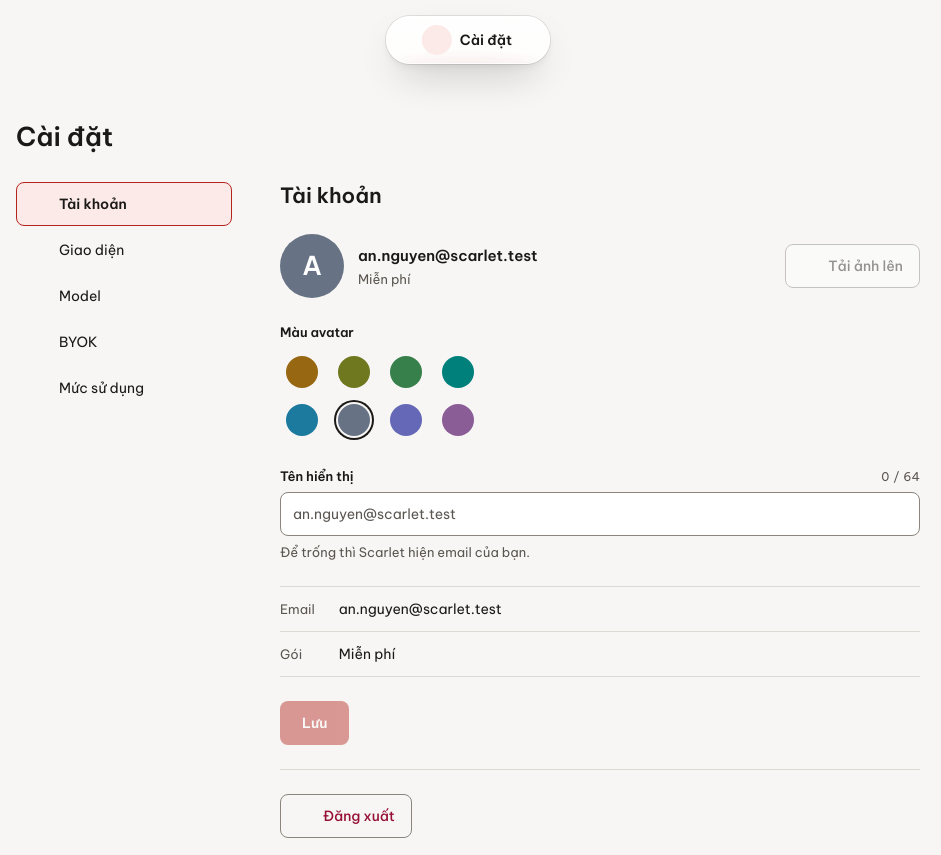
tai khoan › 5. doi ten KHONG xoa default_model — body gui DU bon truong (Cam bay ①)
Type "Nguyễn Thị An" into the field labelled "Tên hiển thị". click: (600, 514)
box: [280, 492, 920, 536]
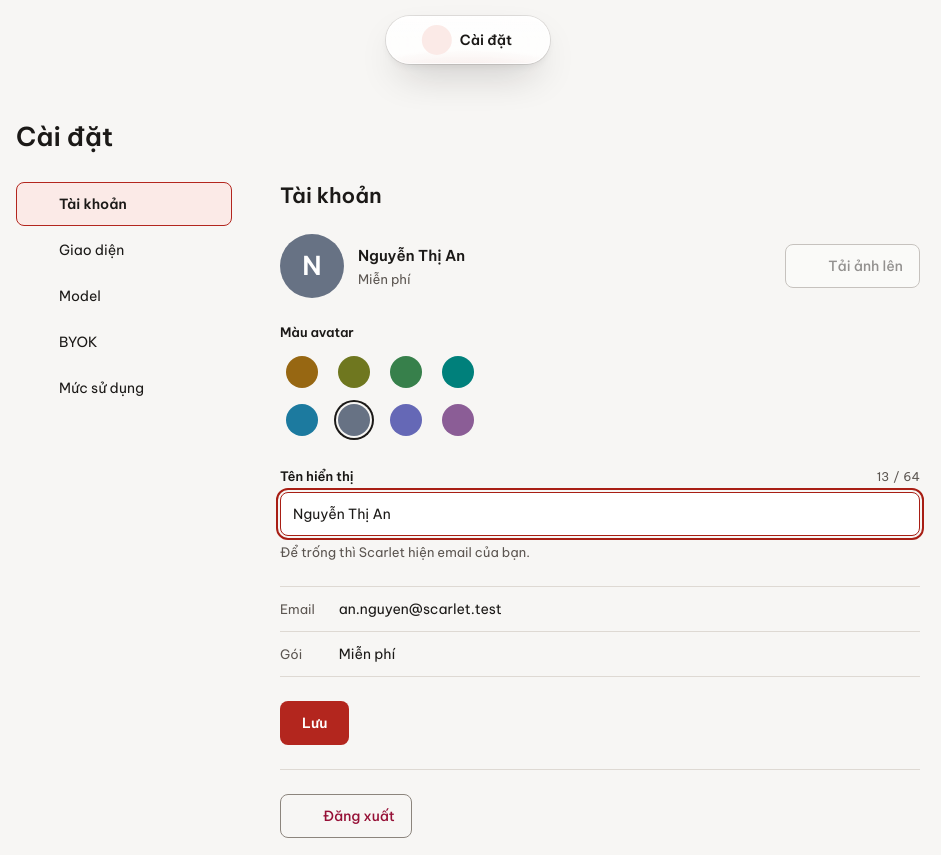
Click the button "Lưu". click: (315, 723)
box: [280, 701, 349, 745]
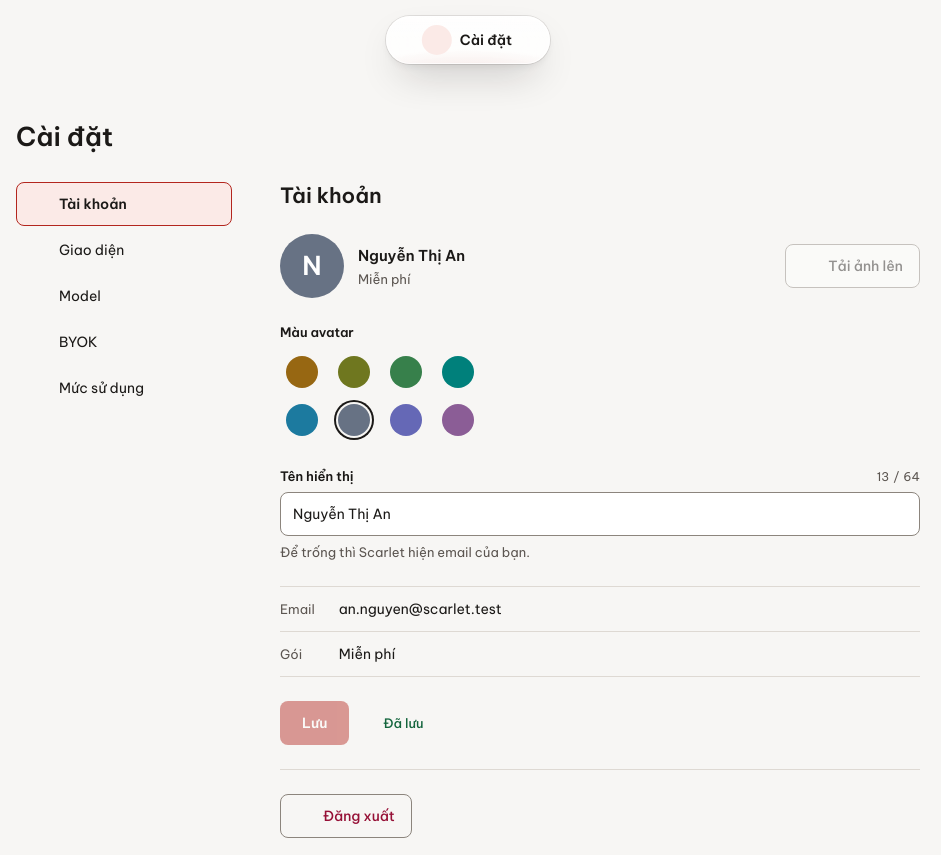
Expected: the text "Đã lưu" is shown, [383, 715, 424, 731]
Expected: the button "Lưu" is disabled, [280, 701, 349, 745]
